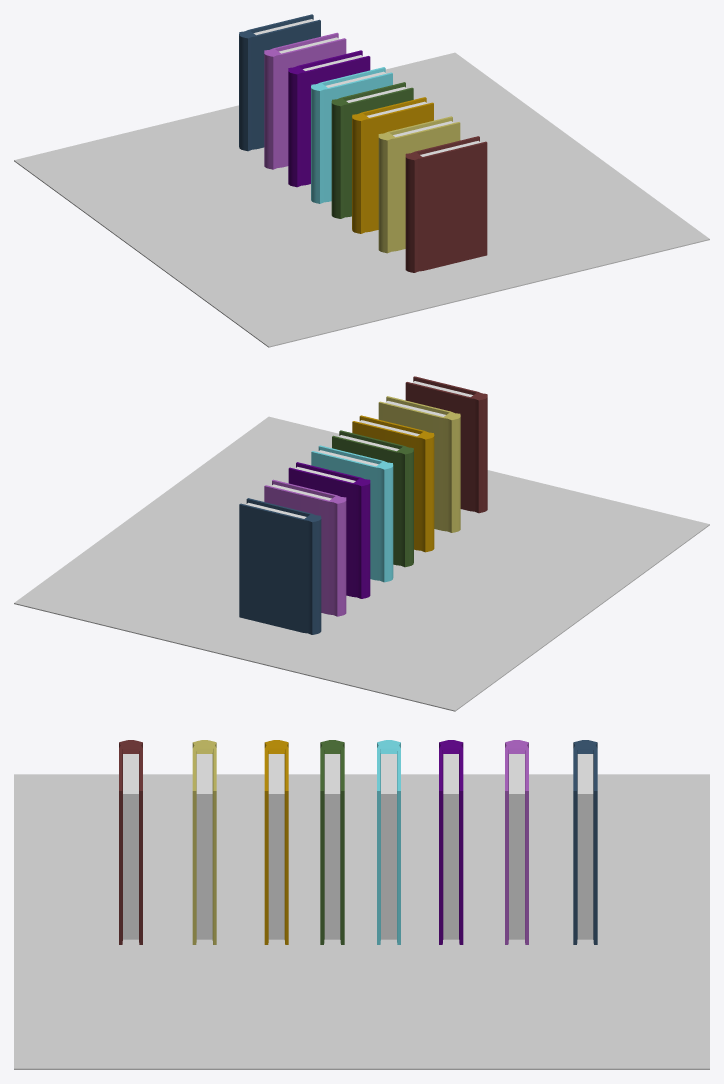
Rendered from books (3).glb.
The picture shows the model from 3 angles, top to bottom: view 1: azimuth 30°, elevation 25°; view 2: azimuth 150°, elevation 25°; view 3: azimuth 270°, elevation 25°; orthographic projection. The views are drawn at different scales.
Parts seen in each view (by area): view 1: Cube, pCube1, pCube1.003, pCube1.005, pCube1.002, pCube1.004, pCube1.006, pCube1.007, pCube1.001; view 2: Cube, pCube1.002, pCube1, pCube1.003, pCube1.004, pCube1.006, pCube1.007, pCube1.005, pCube1.001; view 3: Cube, pCube1.001, pCube1.002, pCube1.003, pCube1.005, pCube1.006, pCube1, pCube1.004, pCube1.007.
Part boxes in pixels (<box>): Cube: <box>14,52,709,347</box>; pCube1: <box>405,136,487,272</box>; pCube1.003: <box>378,116,460,253</box>; pCube1.005: <box>352,97,433,233</box>; pCube1.002: <box>239,14,320,151</box>; pCube1.004: <box>264,32,346,169</box>; pCube1.006: <box>288,50,370,187</box>; pCube1.007: <box>311,67,392,203</box>; pCube1.001: <box>331,82,413,218</box>; Cube: <box>14,416,709,711</box>; pCube1.002: <box>239,498,321,634</box>; pCube1: <box>405,376,487,513</box>; pCube1.003: <box>378,396,460,532</box>; pCube1.004: <box>264,479,346,616</box>; pCube1.006: <box>288,462,370,598</box>; pCube1.007: <box>311,445,393,582</box>; pCube1.005: <box>352,415,434,552</box>; pCube1.001: <box>332,430,413,567</box>; Cube: <box>14,774,709,1069</box>; pCube1.001: <box>320,740,344,944</box>; pCube1.002: <box>573,740,597,944</box>; pCube1.003: <box>192,740,216,944</box>; pCube1.005: <box>264,740,288,944</box>; pCube1.006: <box>439,740,463,944</box>; pCube1: <box>119,740,142,944</box>; pCube1.004: <box>505,740,528,944</box>; pCube1.007: <box>377,740,400,944</box>.
Bounding box in the file's own units: 96.49 × 23.9 × 96.49.
